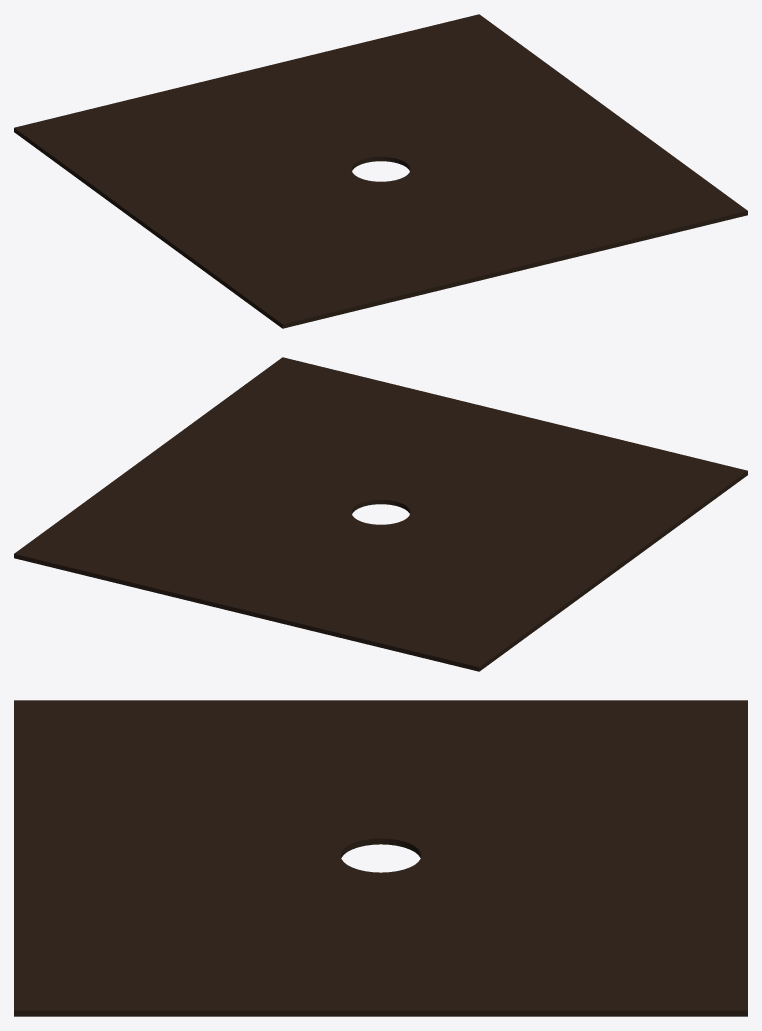
The model's file is SM_ENV_TambalAtas.fbx.
3 renders of one model, top to bottom at view 1: azimuth 30°, elevation 25°; view 2: azimuth 150°, elevation 25°; view 3: azimuth 270°, elevation 25°, orthographic. The views are drawn at different scales.
Visible parts, largest first — view 1: Plane.008; view 2: Plane.008; view 3: Plane.008.
Boxes of the visible parts, x1,y1,x2,y2 form: Plane.008: (14, 14, 747, 328); Plane.008: (14, 357, 747, 671); Plane.008: (14, 700, 747, 1016).
Bounding box in the file's own units: 1000 × 9.01 × 1000.
